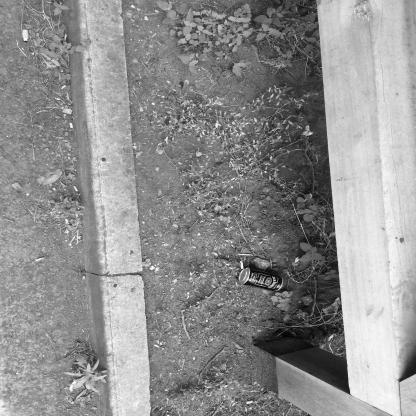metal: (238, 264, 288, 296)
